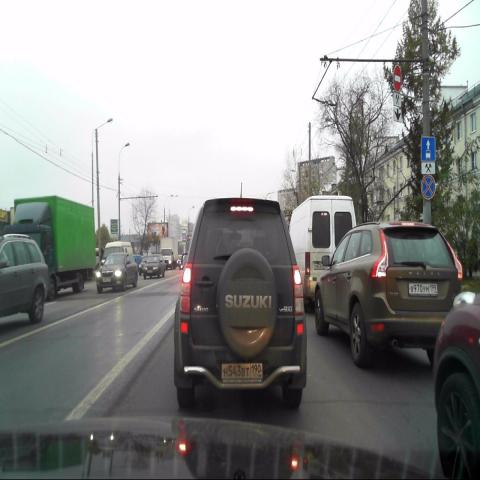5_14: (420, 136, 436, 161)
